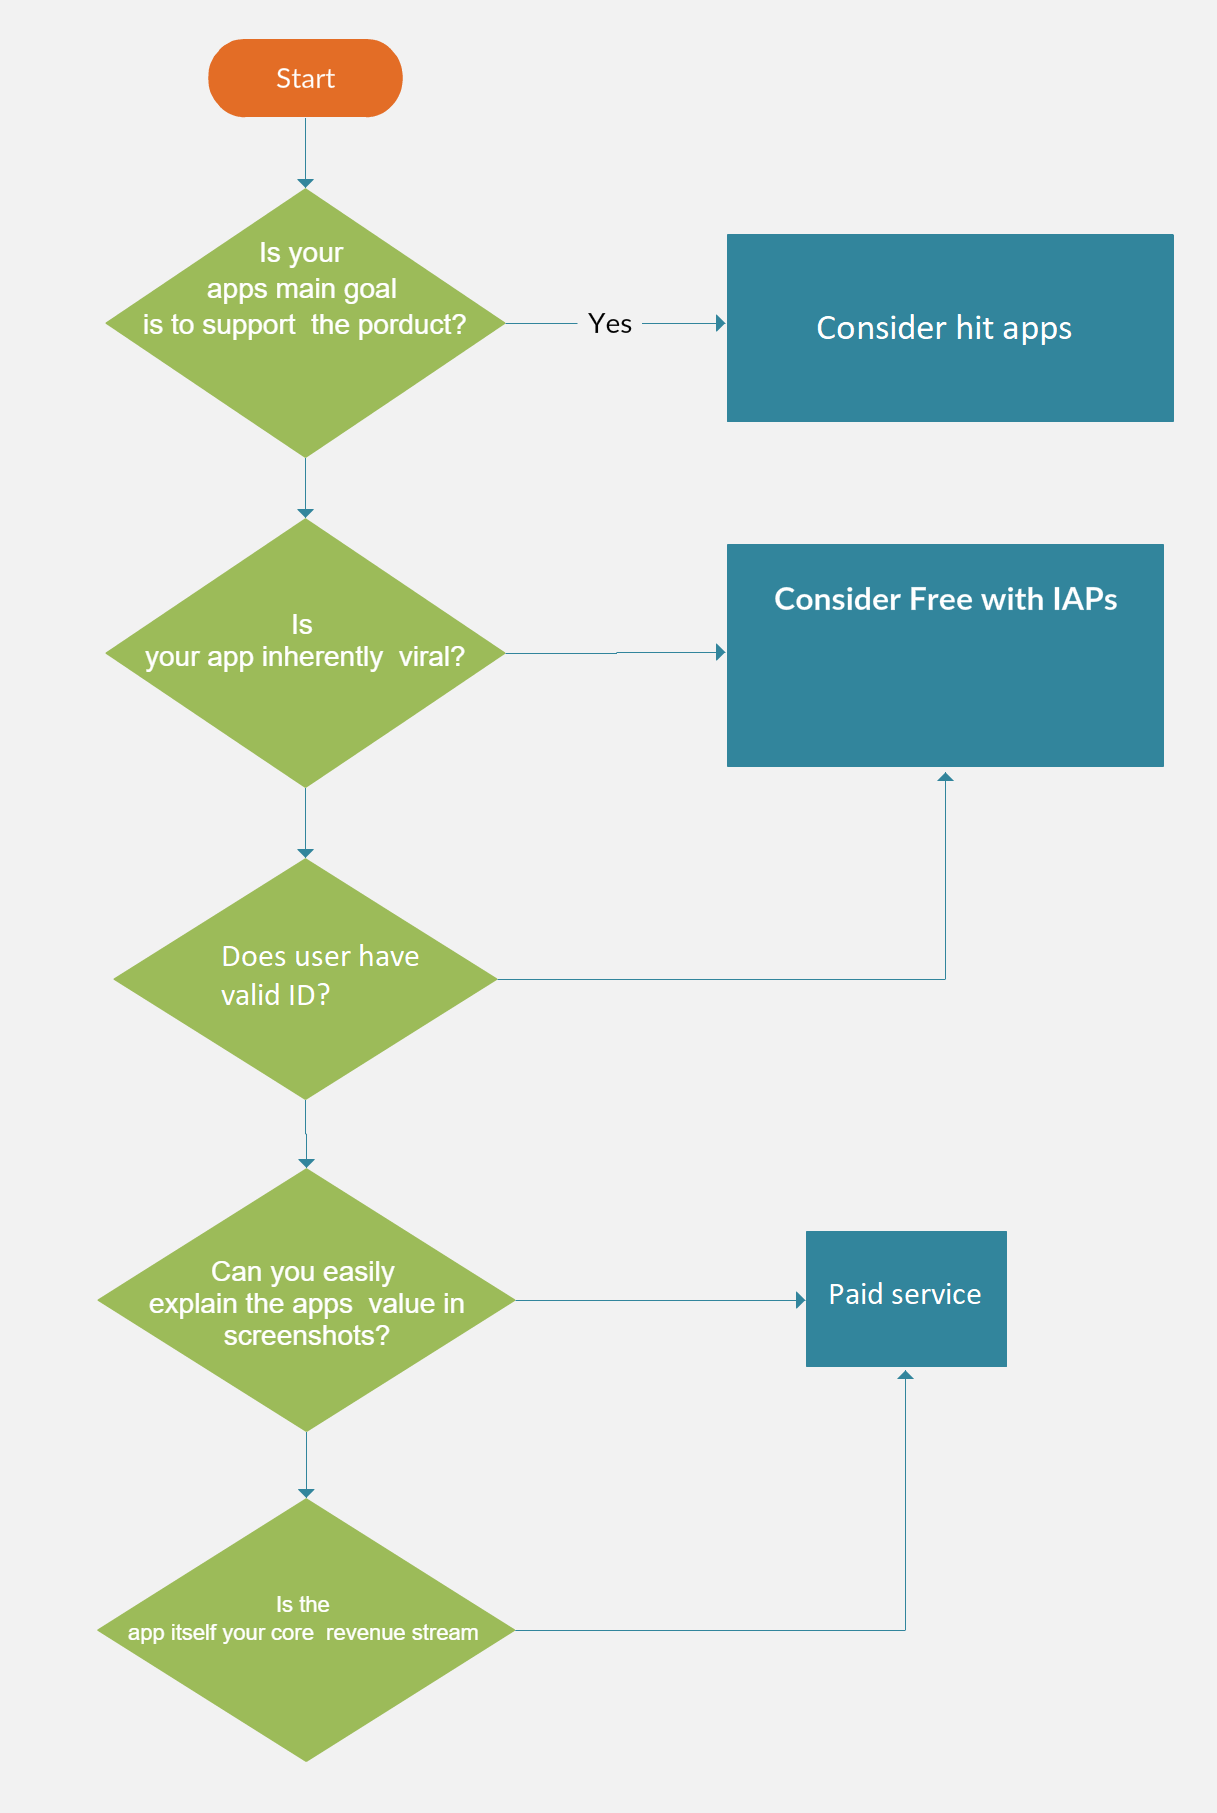arrow: (501, 1368, 920, 1641), (488, 770, 970, 993), (606, 640, 731, 668), (287, 111, 323, 201), (291, 770, 321, 868), (291, 1418, 321, 1506), (292, 451, 321, 531), (291, 1091, 316, 1176)
decision: (92, 1495, 526, 1768), (90, 1165, 517, 1434), (95, 515, 512, 790), (103, 187, 507, 456), (106, 860, 501, 1104)
process: (720, 534, 1176, 775), (720, 225, 1184, 431), (799, 1220, 1015, 1373)
terminator: (201, 31, 412, 124)
text: (134, 230, 470, 350), (143, 1253, 470, 1355), (120, 1583, 488, 1655), (140, 604, 470, 679), (765, 573, 1127, 623), (212, 934, 431, 1014), (810, 304, 1084, 354), (818, 1277, 990, 1315), (268, 62, 348, 100), (581, 306, 640, 345)
